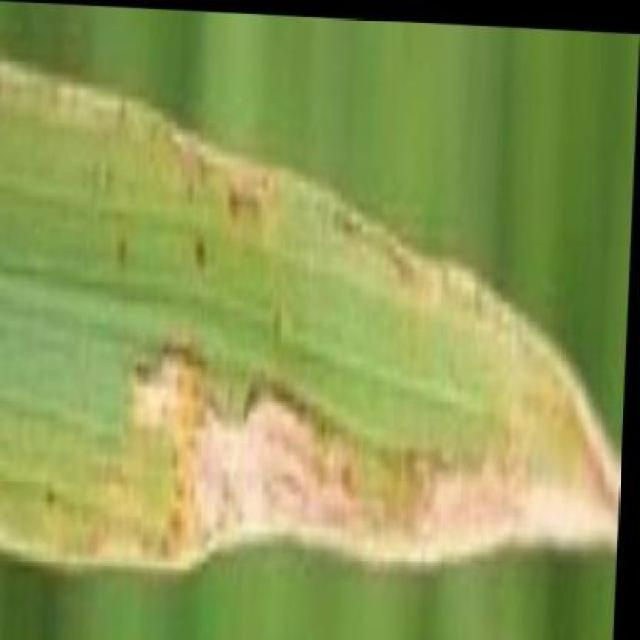Brown_Spot: (0, 228, 615, 585)
